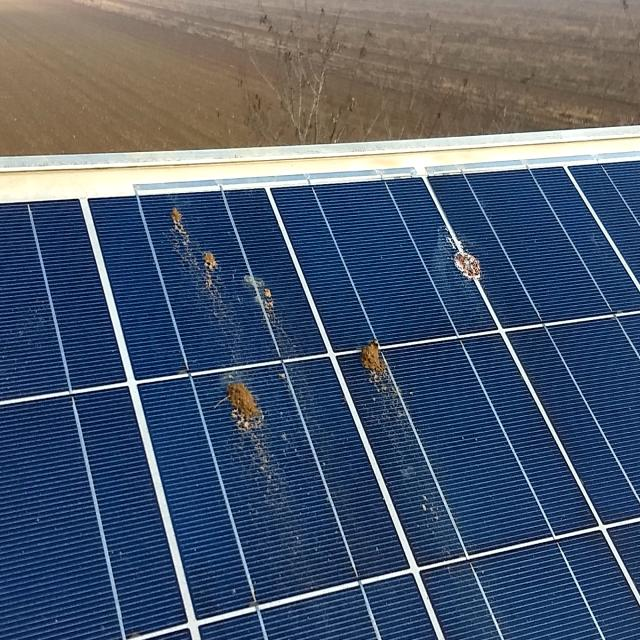bird: (211, 362, 288, 502), (166, 196, 226, 310), (428, 211, 501, 291), (234, 255, 278, 334), (352, 332, 402, 398)
